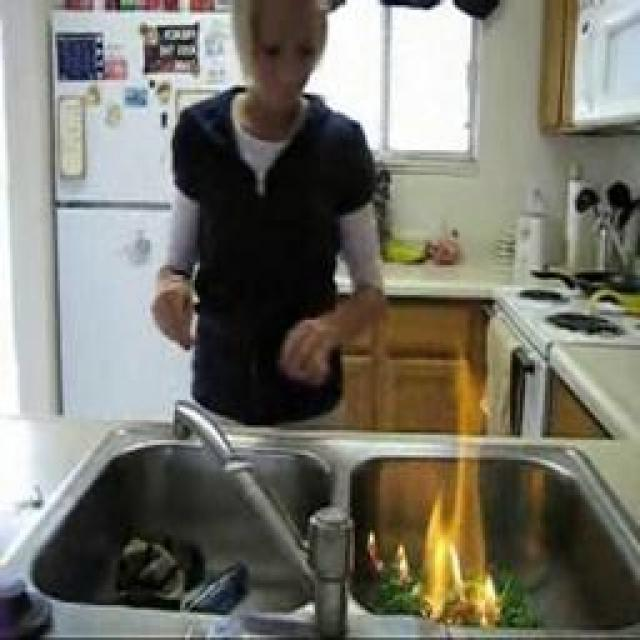Fire: (378, 391, 488, 614)
